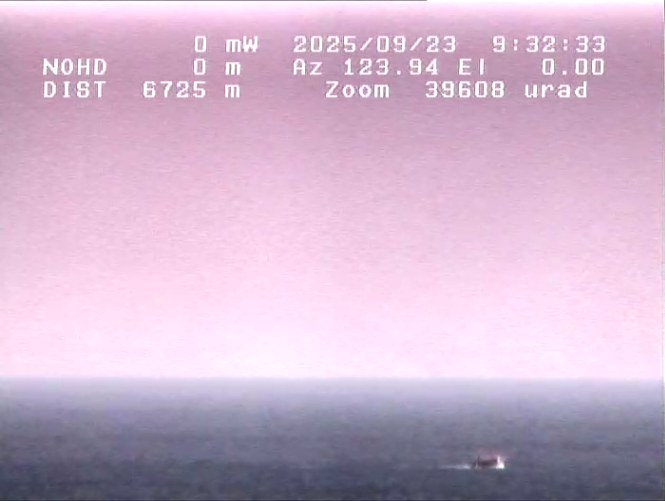TUGS: (453, 440, 527, 479)
